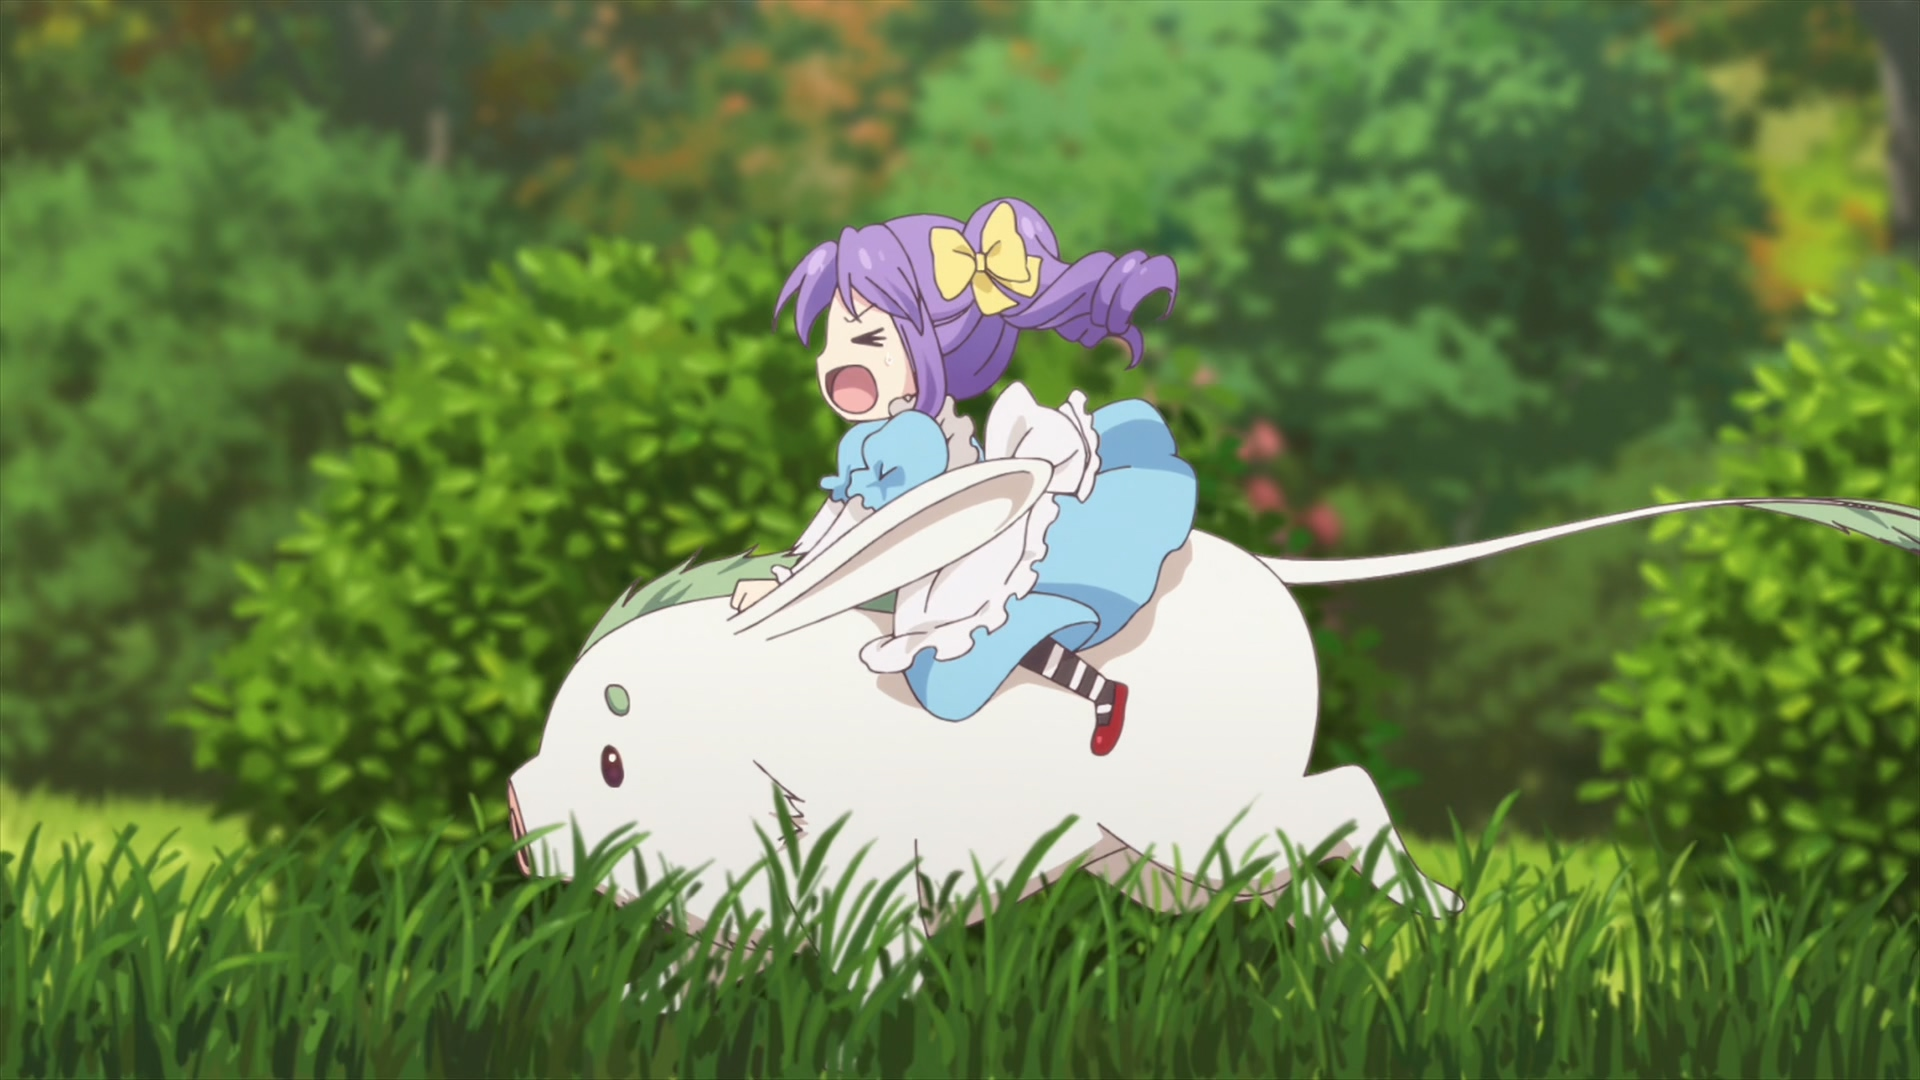瓜之介: (508, 458, 1920, 1080)
阿菊: (771, 198, 1196, 758)
